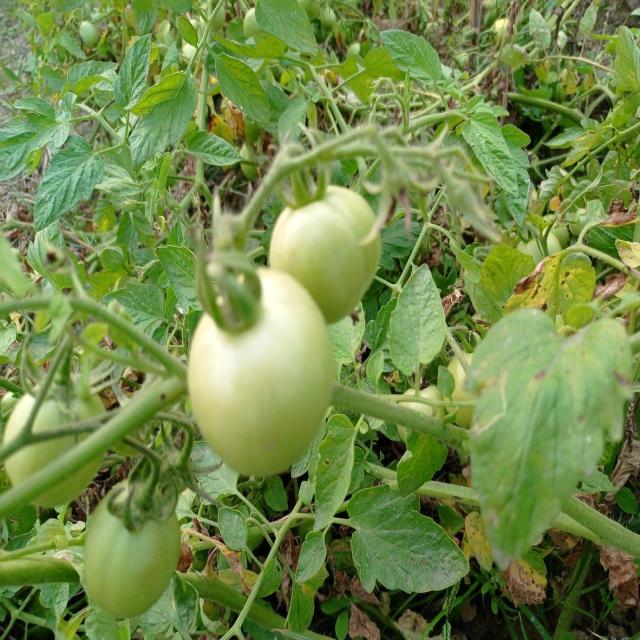Unripe: (186, 265, 338, 479), (270, 178, 385, 324)
